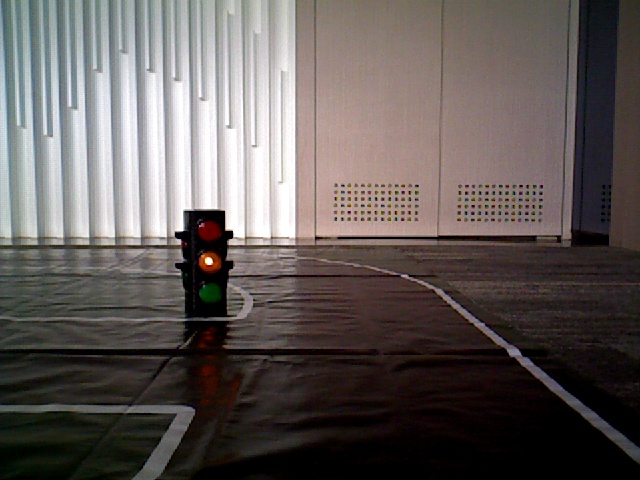yellow: (187, 214, 226, 315)
